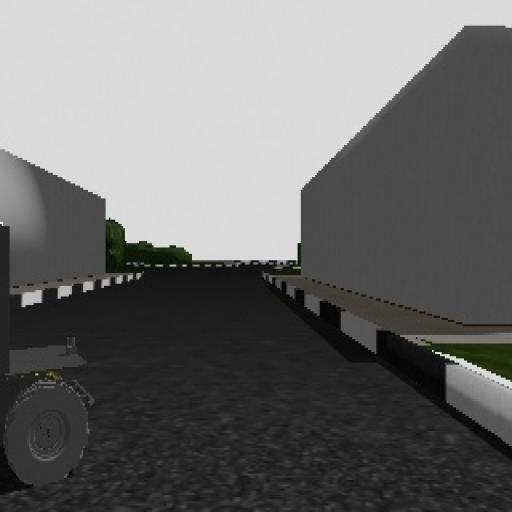huskya200: (0, 209, 99, 512)
